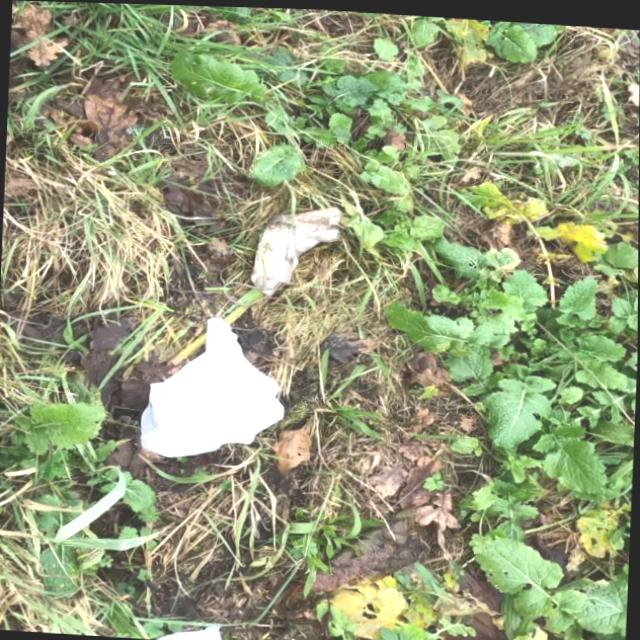Mask: (219, 197, 343, 312)
